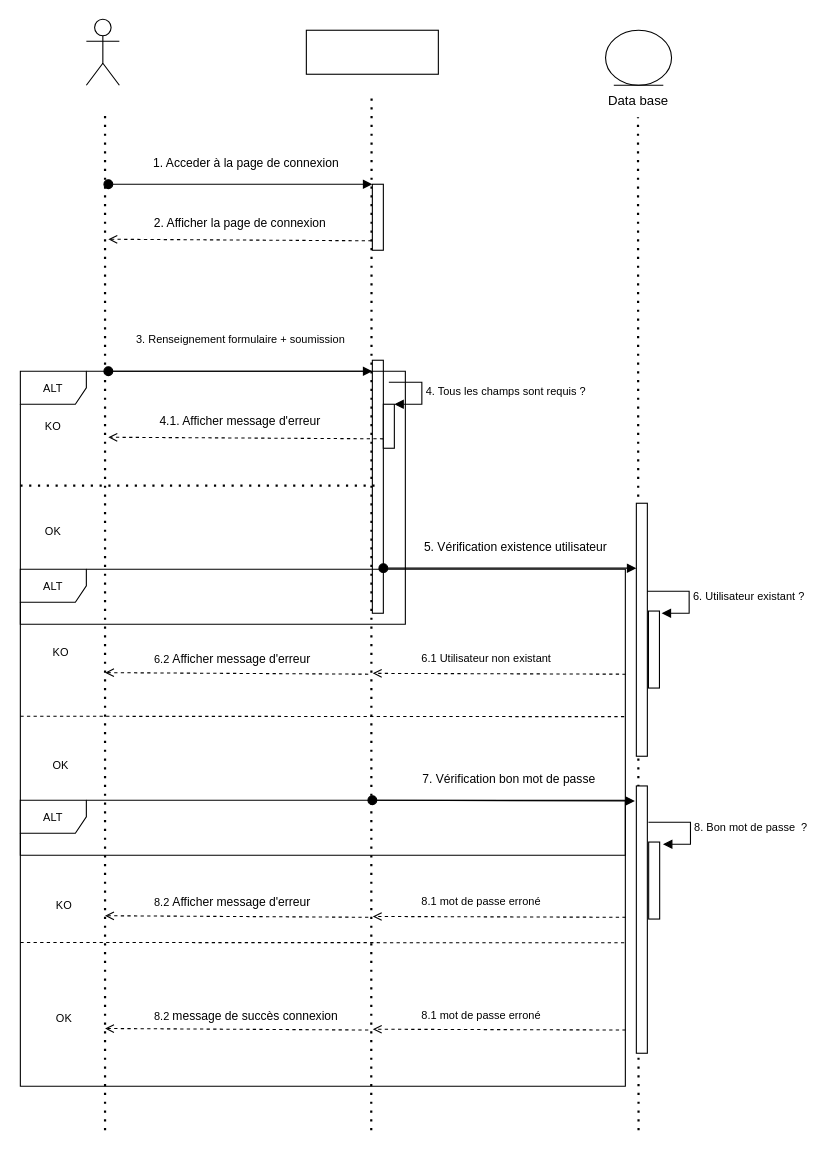
Some shapes in this 827 by 1152 pixel diagram are drawn without their labels. The centre of each missing label's shape, as x and y in pixels:
Application: (x=371, y=51)
User: (x=102, y=51)
